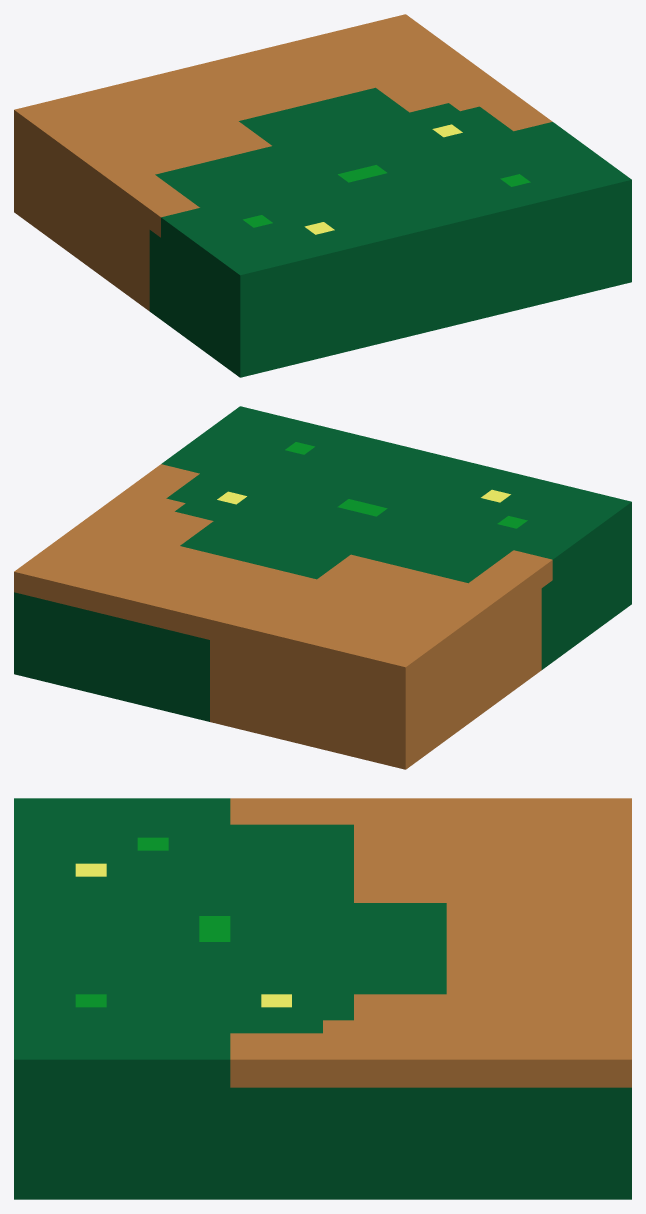
Rendered from Tile8.obj.
The picture shows the model from 3 angles, top to bottom: view 1: azimuth 30°, elevation 25°; view 2: azimuth 150°, elevation 25°; view 3: azimuth 270°, elevation 25°; orthographic projection. The views are drawn at different scales.
Size of the model in its own units: 2 by 0.5 by 2.
Materials: 1 (1 with a texture image).
